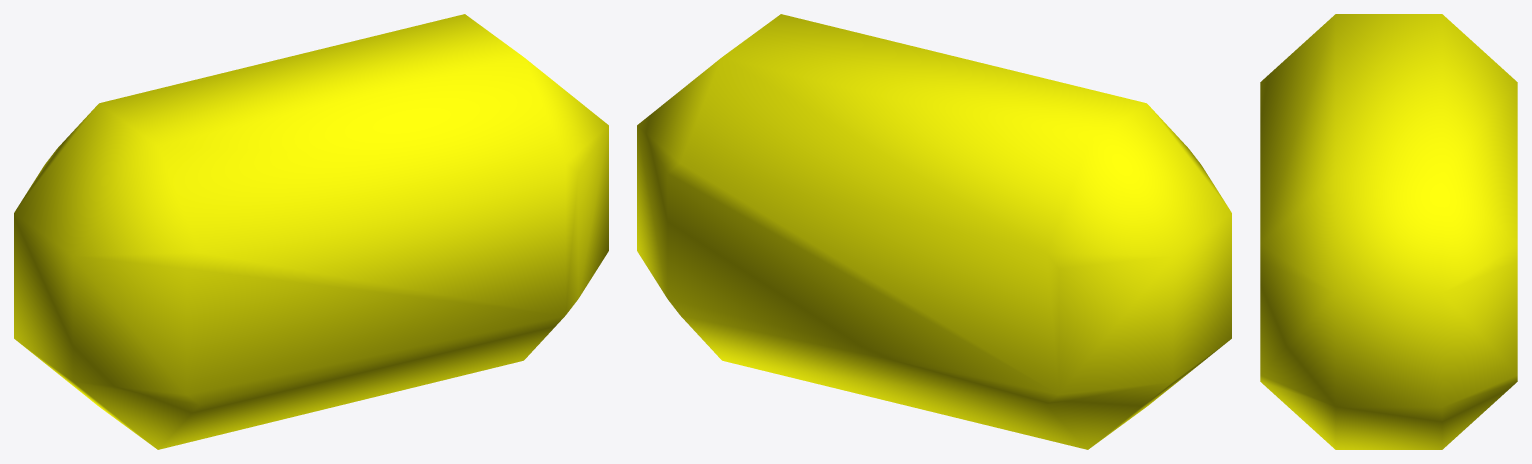
Rendered from right_finger_dist_link.bbox.gltf.
The picture shows the model from 3 angles, left to right: view 1: azimuth 30°, elevation 25°; view 2: azimuth 150°, elevation 25°; view 3: azimuth 270°, elevation 25°; orthographic projection. The views are drawn at different scales.
Visible parts, largest first — view 1: right_finger_dist_link.bbox; view 2: right_finger_dist_link.bbox; view 3: right_finger_dist_link.bbox.
Boxes of the visible parts, x1,y1,x2,y2 form: right_finger_dist_link.bbox: [14, 14, 608, 449]; right_finger_dist_link.bbox: [637, 14, 1231, 449]; right_finger_dist_link.bbox: [1260, 14, 1517, 449].
Size of the model in its own units: 0.0436 by 0.0236 by 0.02.
